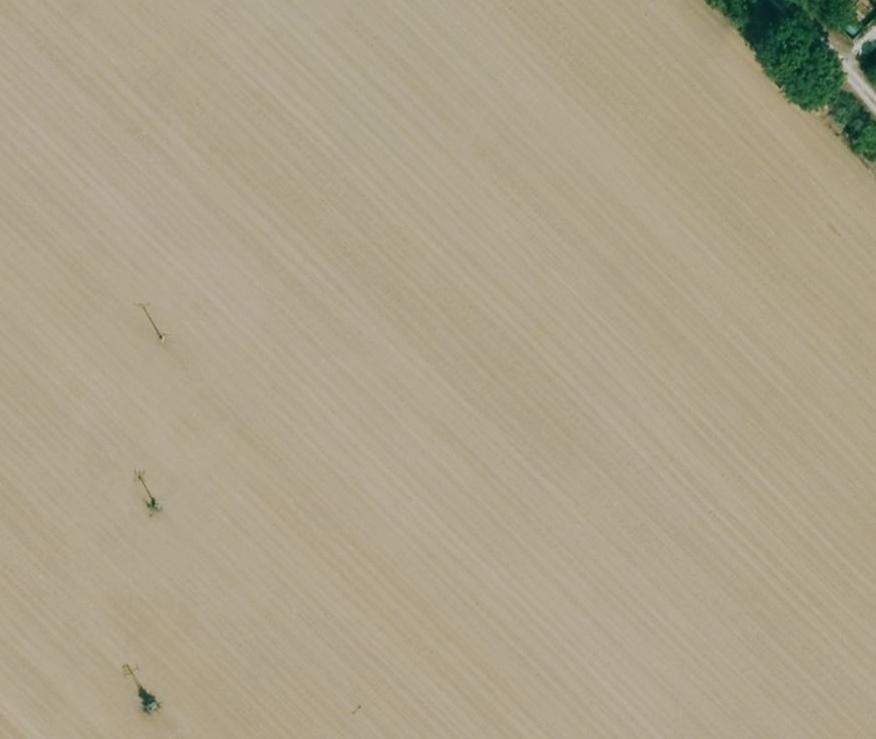field: (0, 2, 876, 736)
forest: (708, 0, 843, 110)
